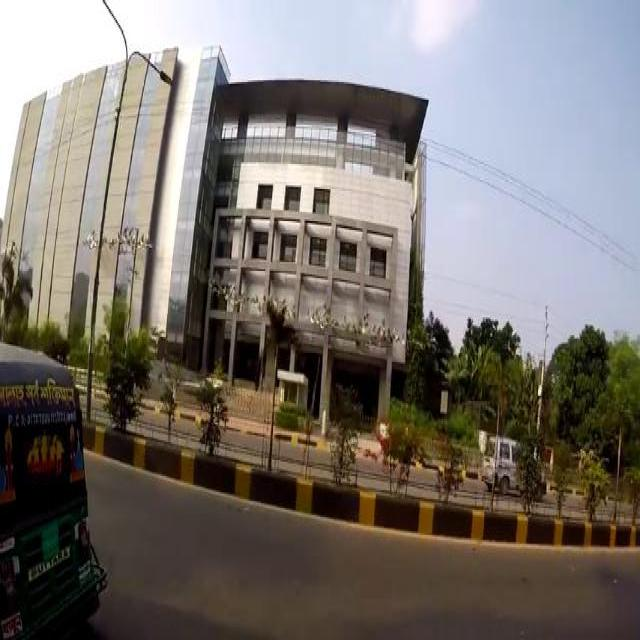minivan: (480, 432, 546, 497)
three wheelers -CNG-: (0, 340, 104, 636)
